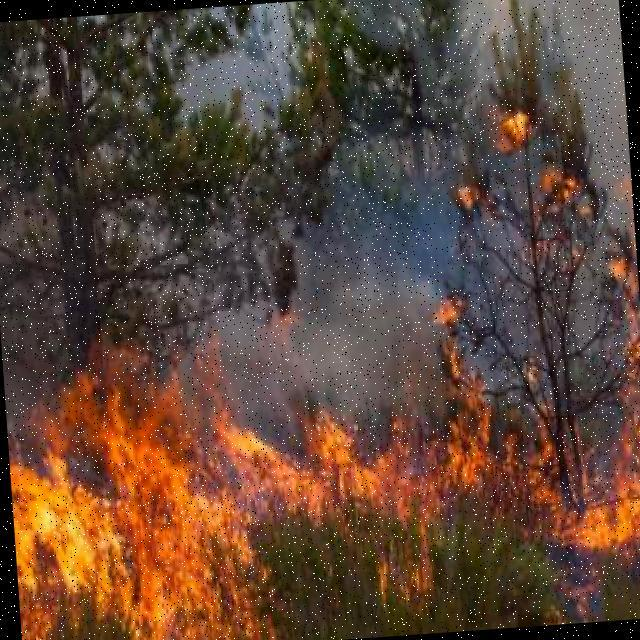Fire: (243, 391, 640, 579), (7, 336, 250, 640)
